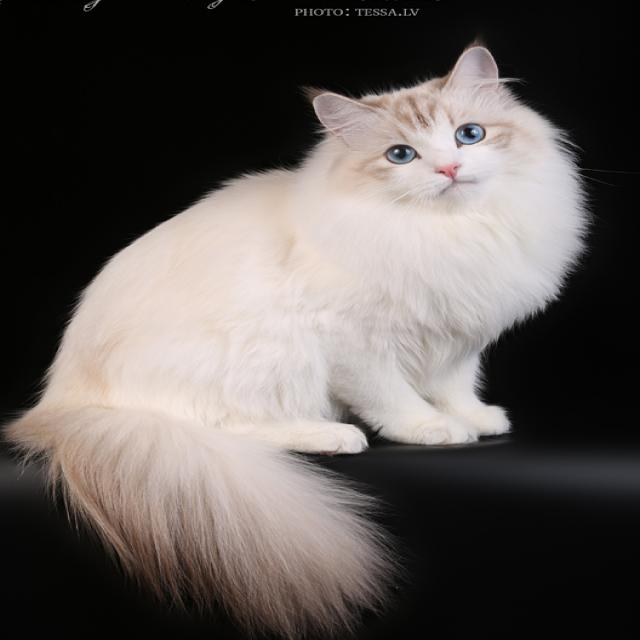Neva Masquerade: (0, 40, 599, 640)
